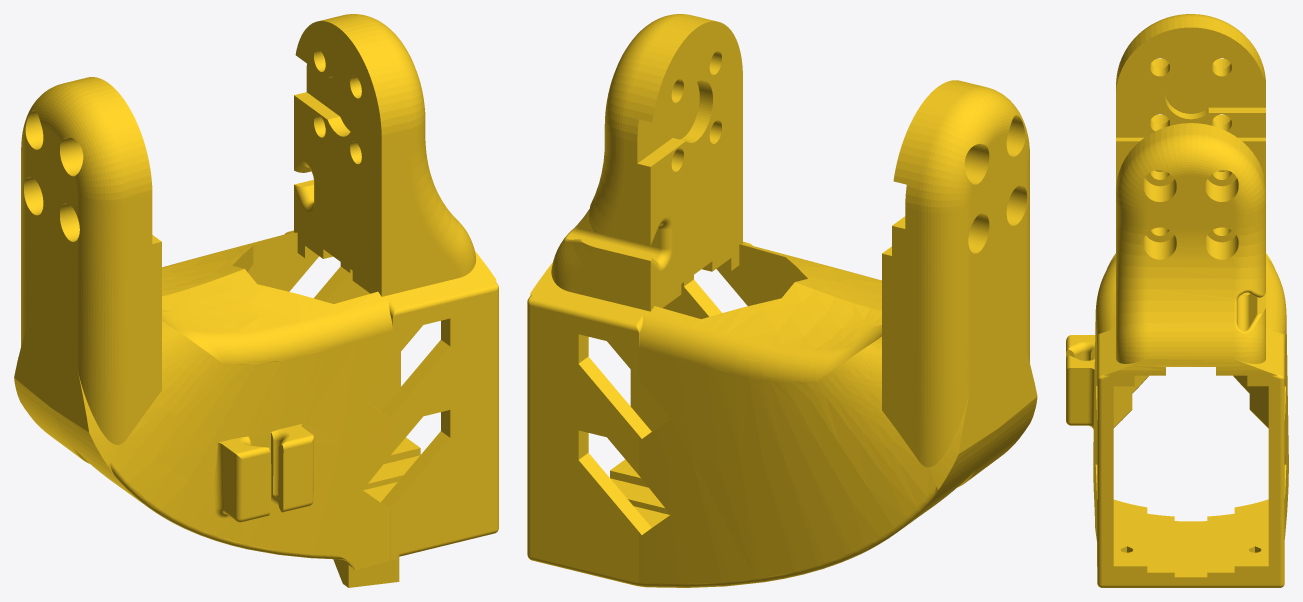
The model's file is wrist_roll_pitch_so101_v2_stl.dae.
The picture shows the model from 3 angles, left to right: view 1: azimuth 30°, elevation 25°; view 2: azimuth 150°, elevation 25°; view 3: azimuth 270°, elevation 25°; orthographic projection. The views are drawn at different scales.
Parts seen in each view (by area): view 1: node0; view 2: node0; view 3: node0.
Part boxes in pixels (<box>): node0: <box>14,14,498,587</box>; node0: <box>527,14,1037,587</box>; node0: <box>1066,14,1288,587</box>.
Bounding box in the file's own units: 0.0623 × 0.0357 × 0.0778.
